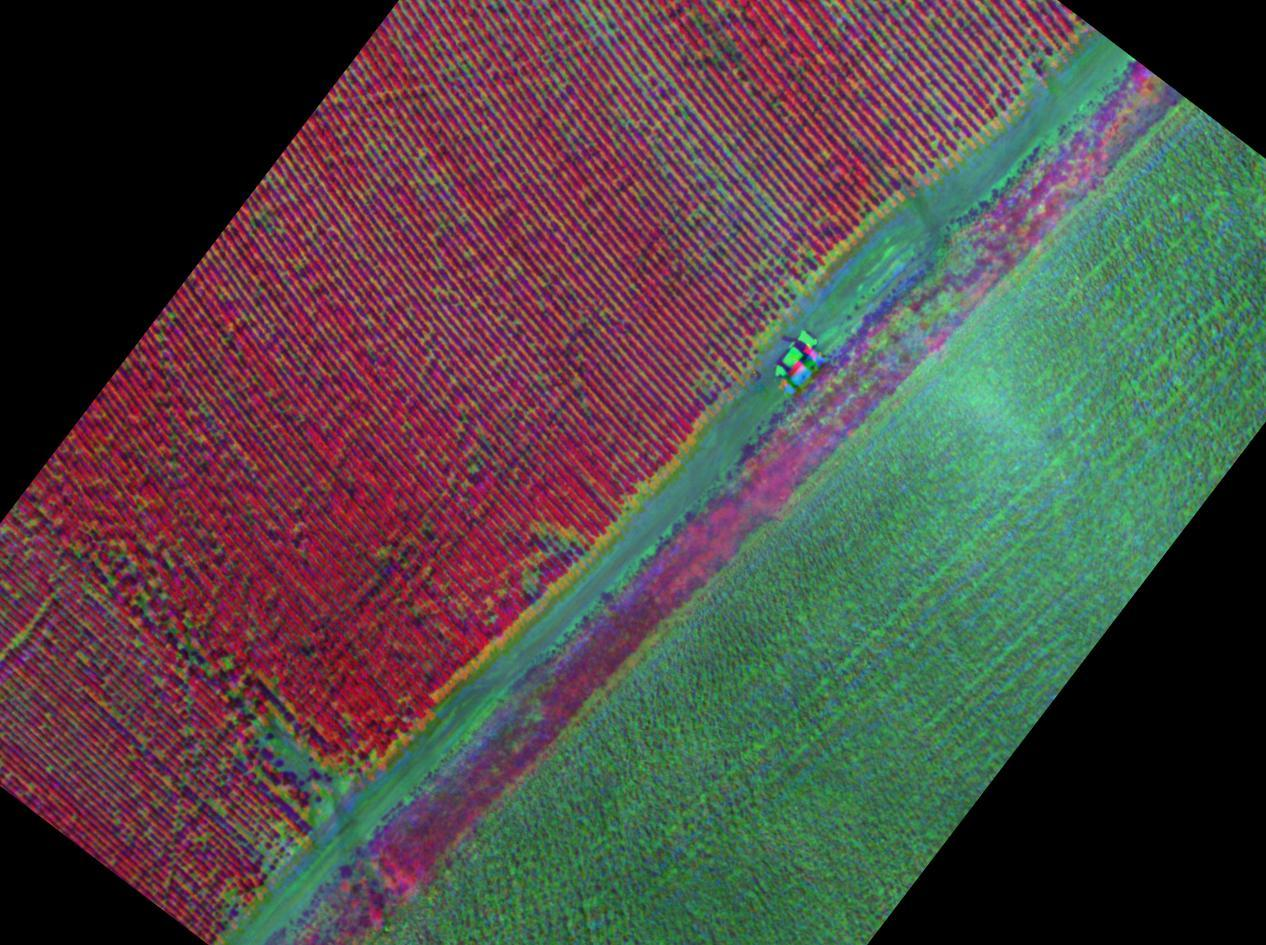dc: (205, 653, 368, 814), (504, 511, 598, 599), (678, 1, 766, 88), (737, 229, 826, 306)
